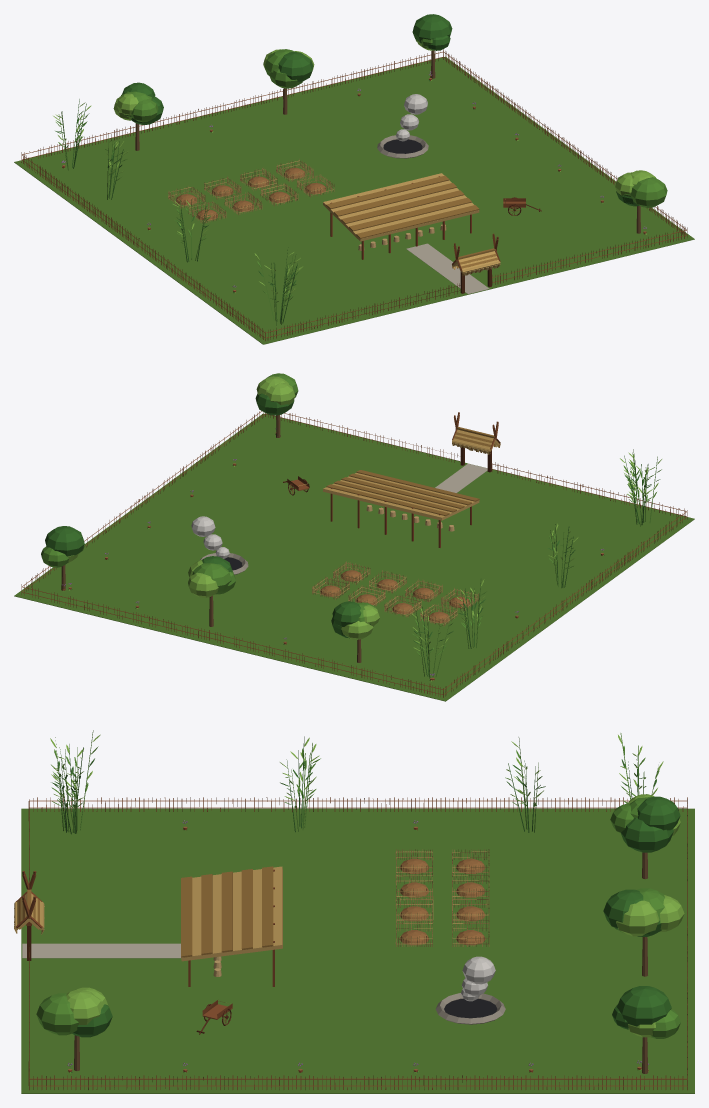
File: waste.glb
3 views of the same model, one above another, from view 1: azimuth 30°, elevation 25°; view 2: azimuth 150°, elevation 25°; view 3: azimuth 270°, elevation 25° (orthographic). The views are drawn at different scales.
Visible parts, largest first — view 1: body; view 2: body; view 3: body.
Part boxes in pixels (box(x1,y1,x2,y2)): body: box(14, 14, 694, 344); body: box(14, 373, 694, 701); body: box(14, 730, 694, 1093).
Size of the model in its own units: 47.9 by 7.57 by 48.44.
